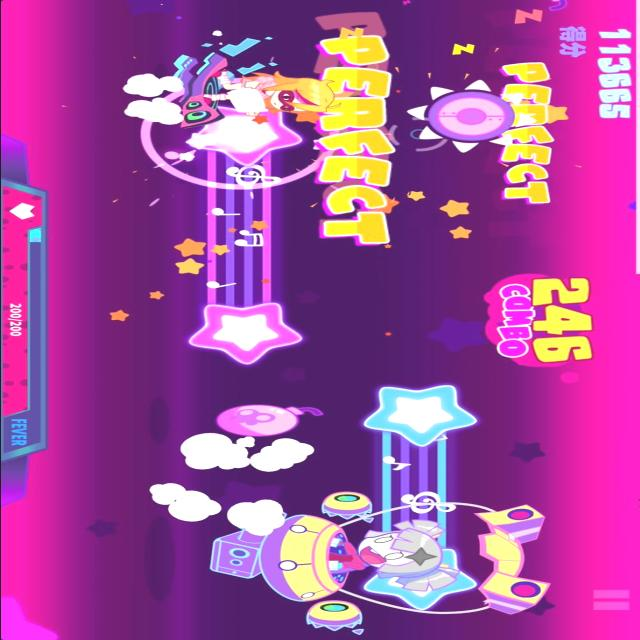ci: (408, 80, 536, 152)
hold: (175, 109, 305, 367), (362, 384, 476, 610)
tang: (205, 403, 322, 438)
